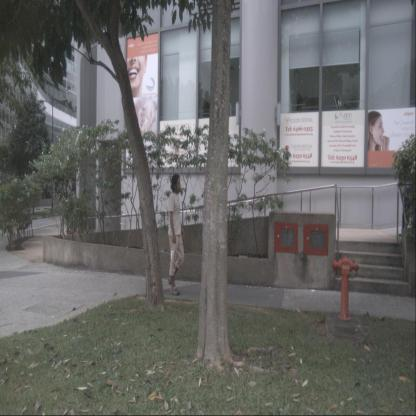human-pedestrian-adult: (168, 174, 185, 295)
